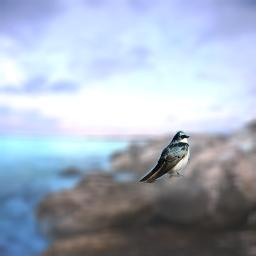Swallow: (139, 130, 190, 183)
